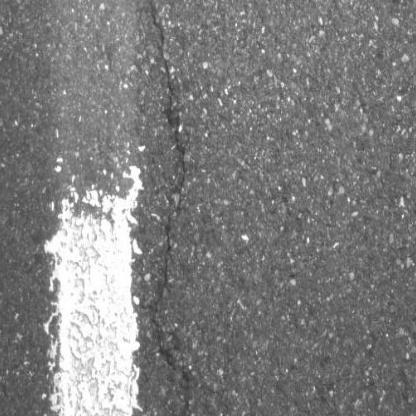Cracks: (140, 0, 193, 416)
